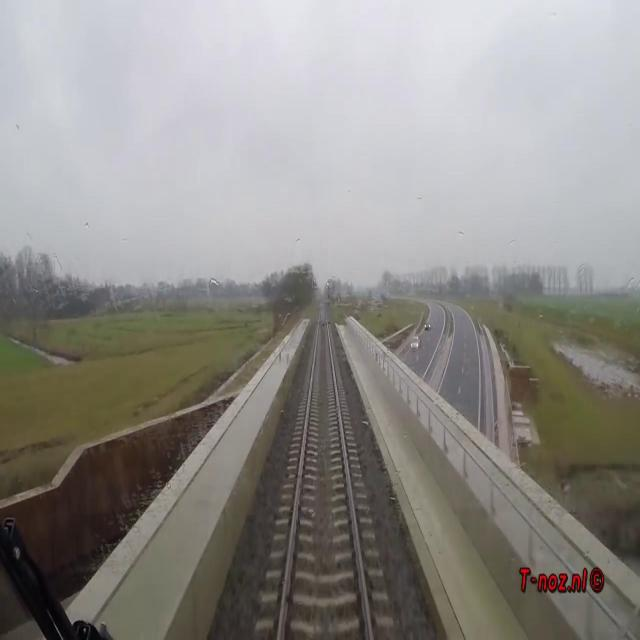rail-track: (281, 300, 369, 639)
